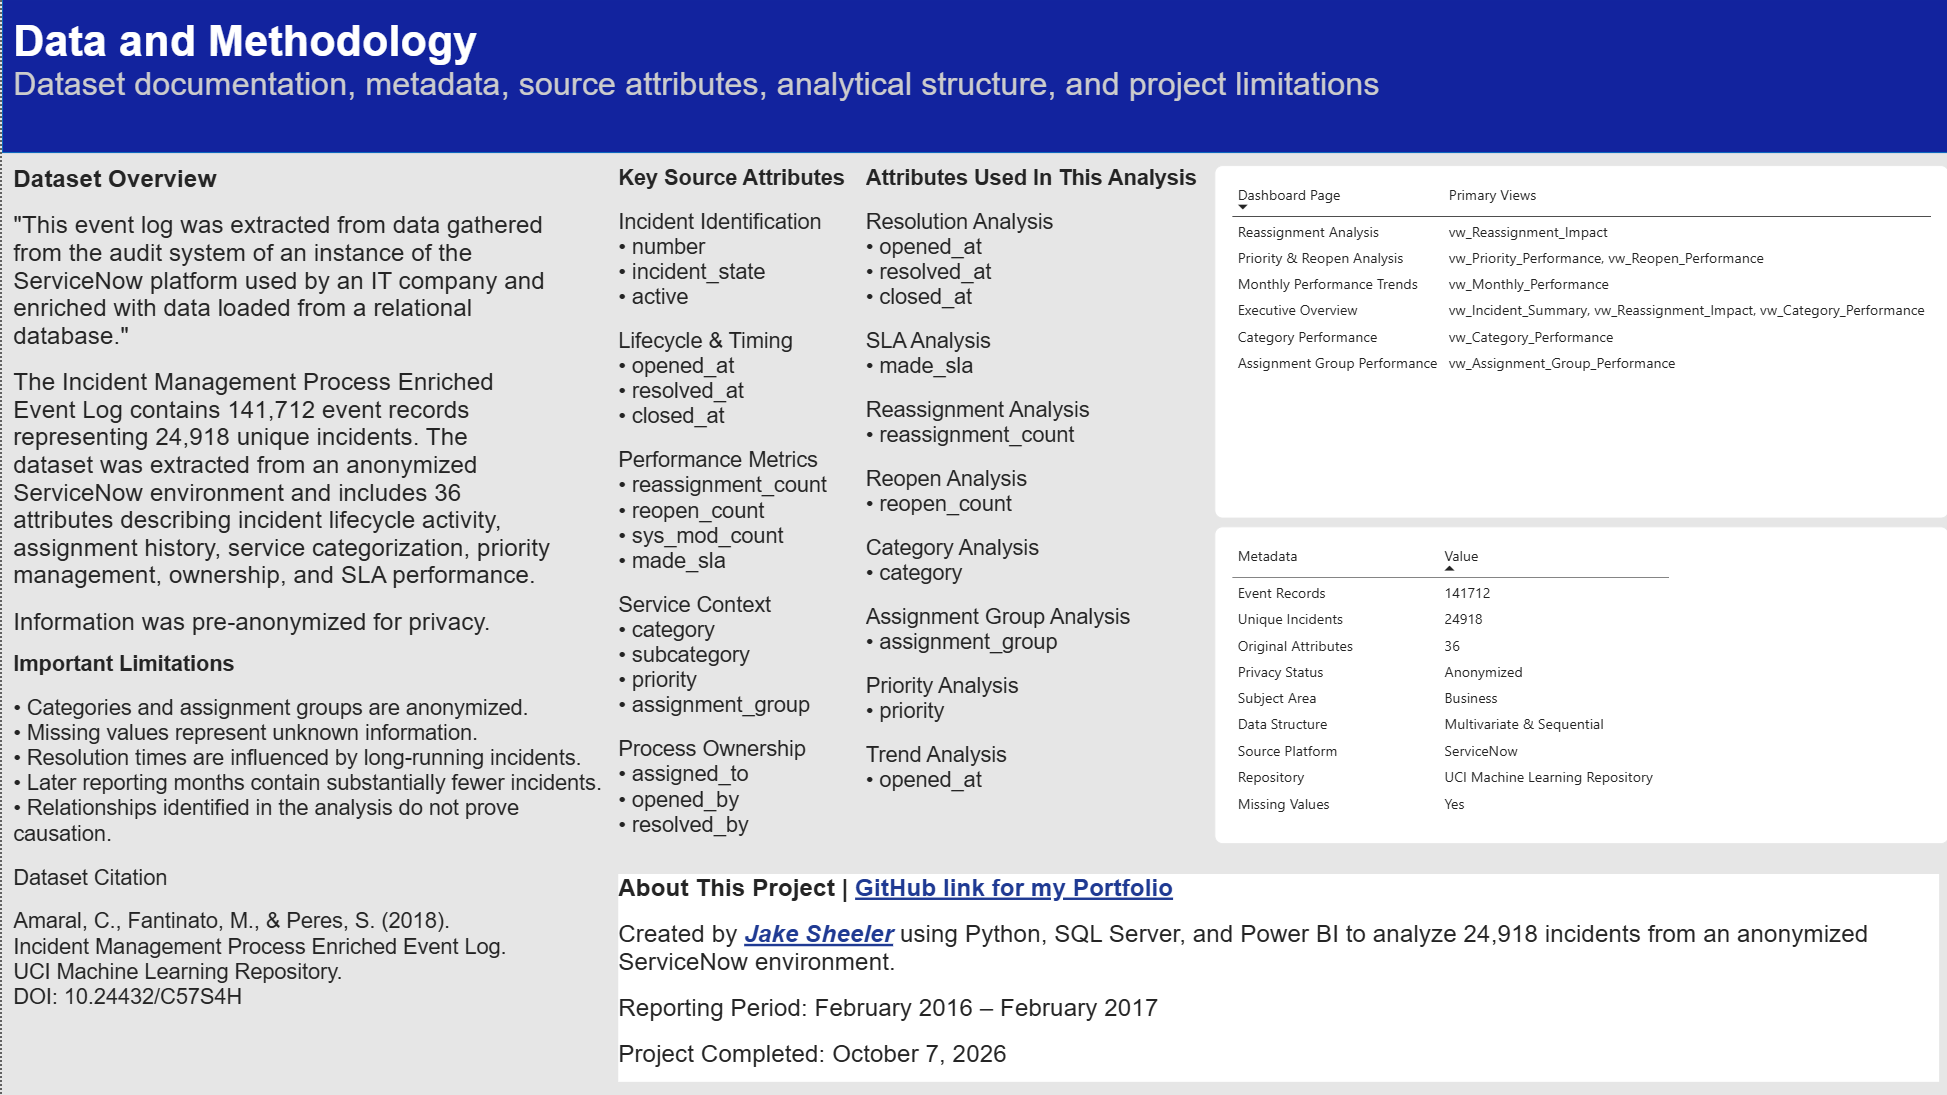

This screenshot's page, from the dashboard's own definition file:
{"tool":"powerbi","page":{"name":"Data & Methodology","canvas":[1920,1080],"ordinal":6},"visuals":[{"type":"shape","box":[0,0,1920.3,151.5],"z":0},{"type":"textbox","box":[11.5,17.2,1513.3,146.2],"z":1000},{"type":"textbox","box":[11.5,163.4,531.7,472.9],"z":1001},{"type":"tableEx","fields":{"Values":["Table.Column1","Table.Column2"]},"box":[1195.2,520.2,725.1,312.4],"z":1002},{"type":"textbox","box":[607.6,163.4,240.8,669.2],"z":1003},{"type":"textbox","box":[11.5,643.4,581.8,409.9],"z":1004},{"type":"textbox","box":[851.2,163.4,335.3,725.1],"z":1005},{"type":"tableEx","fields":{"Values":["Dashboard Page Mapping.Dashboard Page","Dashboard Page Mapping.Primary Views"]},"box":[1195.2,163.4,725.1,348.2],"z":1006},{"type":"textbox","box":[607.6,862.7,1301.2,204.9],"z":1007}]}

Visuals, with their boxes in screenshot pixels (x1, y1, x2, y2), scaled from the page's 1920x1080 canvas onto the 1947x1095 screenshot:
shape: box(0, 0, 1946, 154)
textbox: box(12, 17, 1546, 166)
textbox: box(12, 166, 551, 645)
tableEx - Table.Column1 x Table.Column2: box(1212, 527, 1946, 844)
textbox: box(616, 166, 860, 844)
textbox: box(12, 652, 602, 1068)
textbox: box(863, 166, 1203, 901)
tableEx - Dashboard Page Mapping.Dashboard Page x Dashboard Page Mapping.Primary Views: box(1212, 166, 1946, 519)
textbox: box(616, 875, 1936, 1082)
